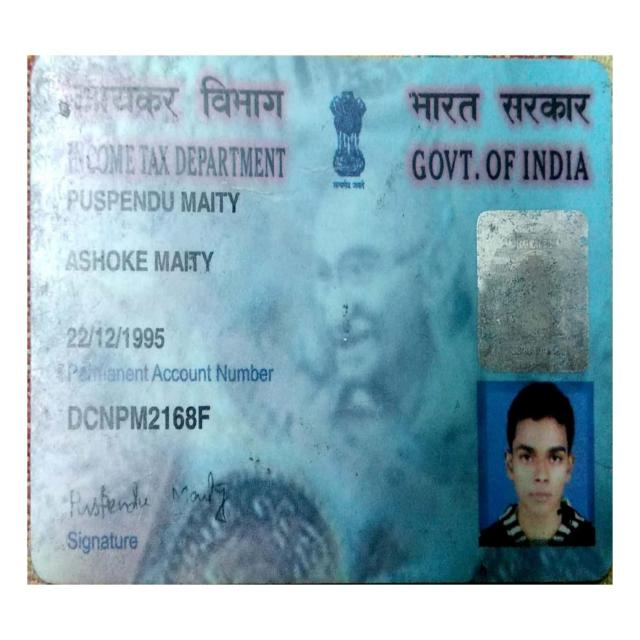pan_card: (41, 61, 609, 575)
